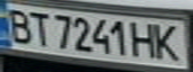1: (109, 18, 130, 56)
2: (69, 14, 93, 53)
4: (90, 16, 112, 55)
7: (48, 11, 72, 51)
B: (3, 6, 36, 44)
H: (127, 20, 160, 60)
K: (151, 21, 187, 63)
T: (24, 9, 54, 46)
